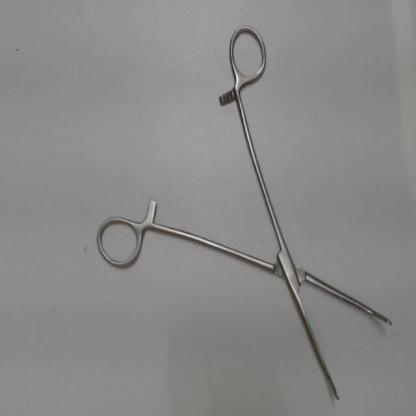Lahey Forceps: (90, 18, 402, 408)
